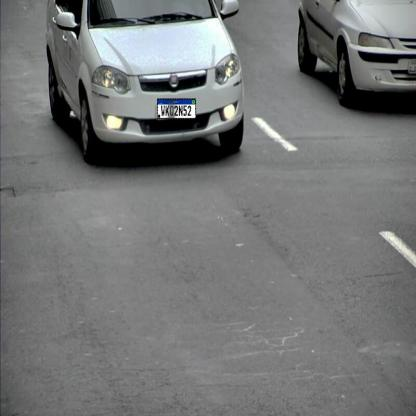PlacaM: (157, 99, 196, 120)
